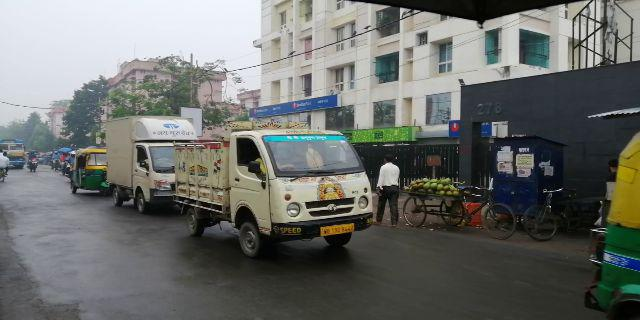Autorickshaw: (72, 150, 103, 196)
Minitruck: (175, 130, 377, 251), (107, 116, 193, 220)
